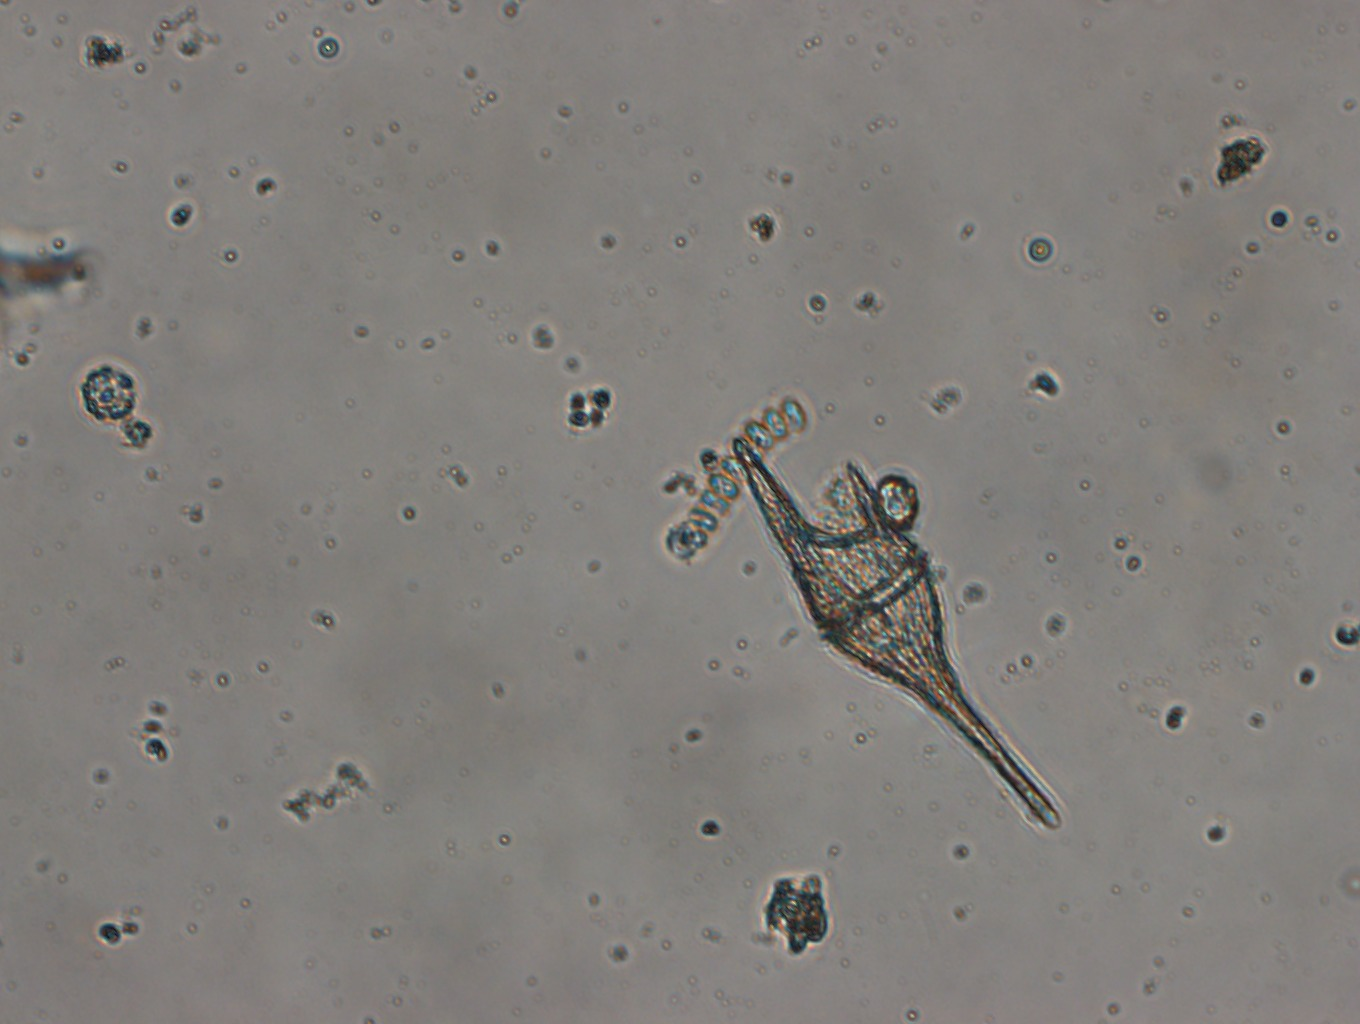ceratium furca: (716, 428, 1073, 847)
